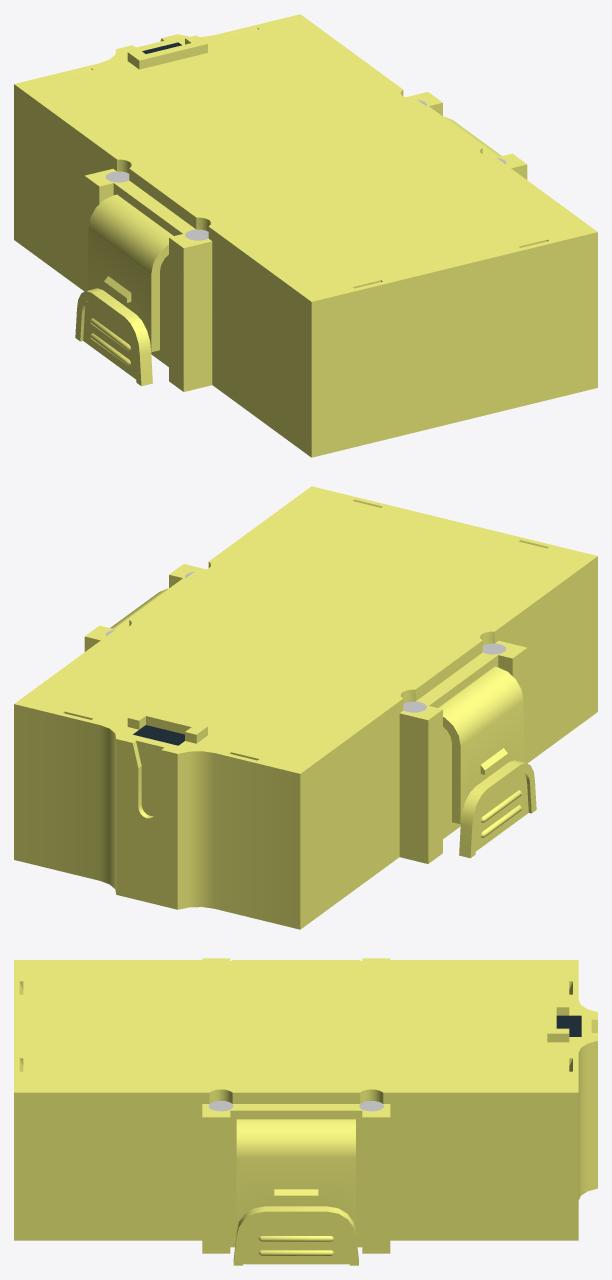
3 views of the same model, one above another, from view 1: azimuth 30°, elevation 25°; view 2: azimuth 150°, elevation 25°; view 3: azimuth 270°, elevation 25° (orthographic). The views are drawn at different scales.
Visible parts, largest first — view 1: u9399.dat, u9472.dat; view 2: u9399.dat, u9472.dat, 45610.dat; view 3: u9399.dat, u9472.dat, 45610.dat.
Boxes of the visible parts, left/top/right/bottom form: u9399.dat: left=14, top=14, right=597, bottom=386; u9472.dat: left=14, top=26, right=597, bottom=457; u9399.dat: left=14, top=486, right=597, bottom=858; u9472.dat: left=14, top=498, right=597, bottom=929; 45610.dat: left=133, top=725, right=184, bottom=745; u9399.dat: left=14, top=958, right=597, bottom=1265; u9472.dat: left=14, top=981, right=597, bottom=1253; 45610.dat: left=556, top=1015, right=581, bottom=1036.
Size of the model in its own units: 0.0552 by 0.022 by 0.0745.
